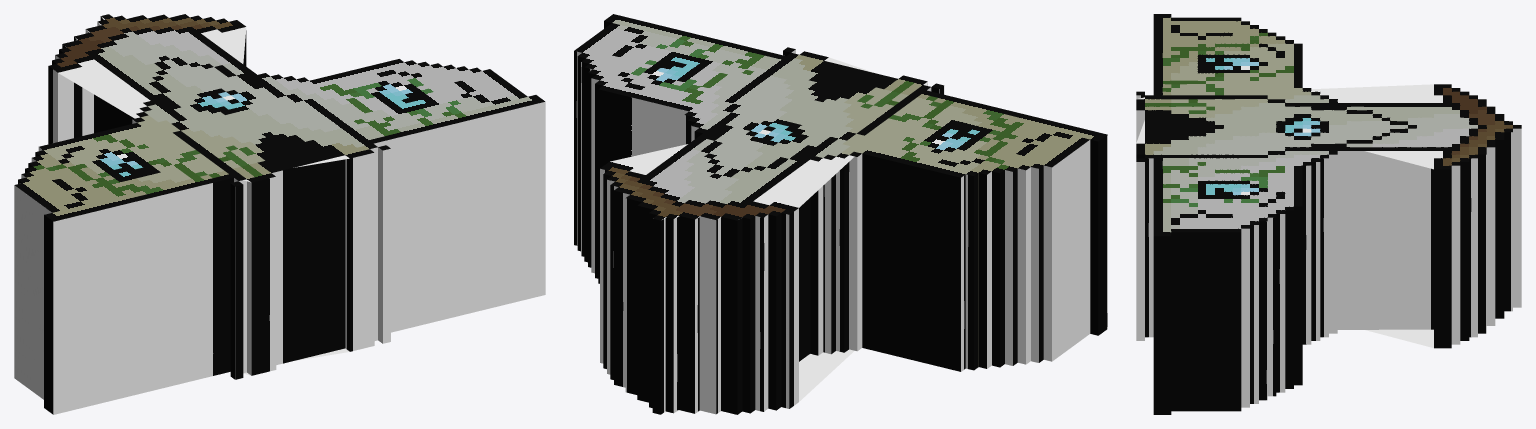
The model's file is church.fbx.
3 views of the same model, side by side, from view 1: azimuth 30°, elevation 25°; view 2: azimuth 150°, elevation 25°; view 3: azimuth 270°, elevation 25° (orthographic). The views are drawn at different scales.
Visible parts, largest first — view 1: church_w_background; view 2: church_w_background; view 3: church_w_background.
Boxes of the visible parts, bbox=[...] form: church_w_background: bbox=[14, 14, 545, 414]; church_w_background: bbox=[574, 14, 1107, 414]; church_w_background: bbox=[1136, 14, 1521, 414].
Size of the model in its own units: 93.75 by 35.18 by 68.75.
